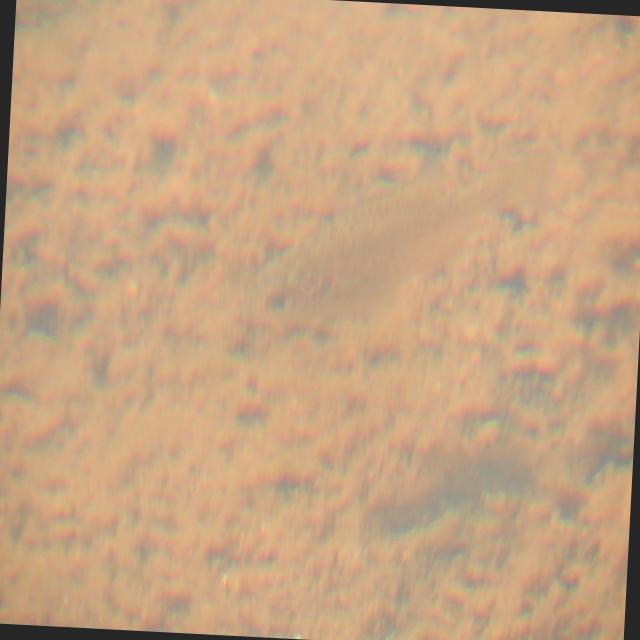Gunes Levregi: (0, 0, 640, 640), (237, 130, 541, 352)
